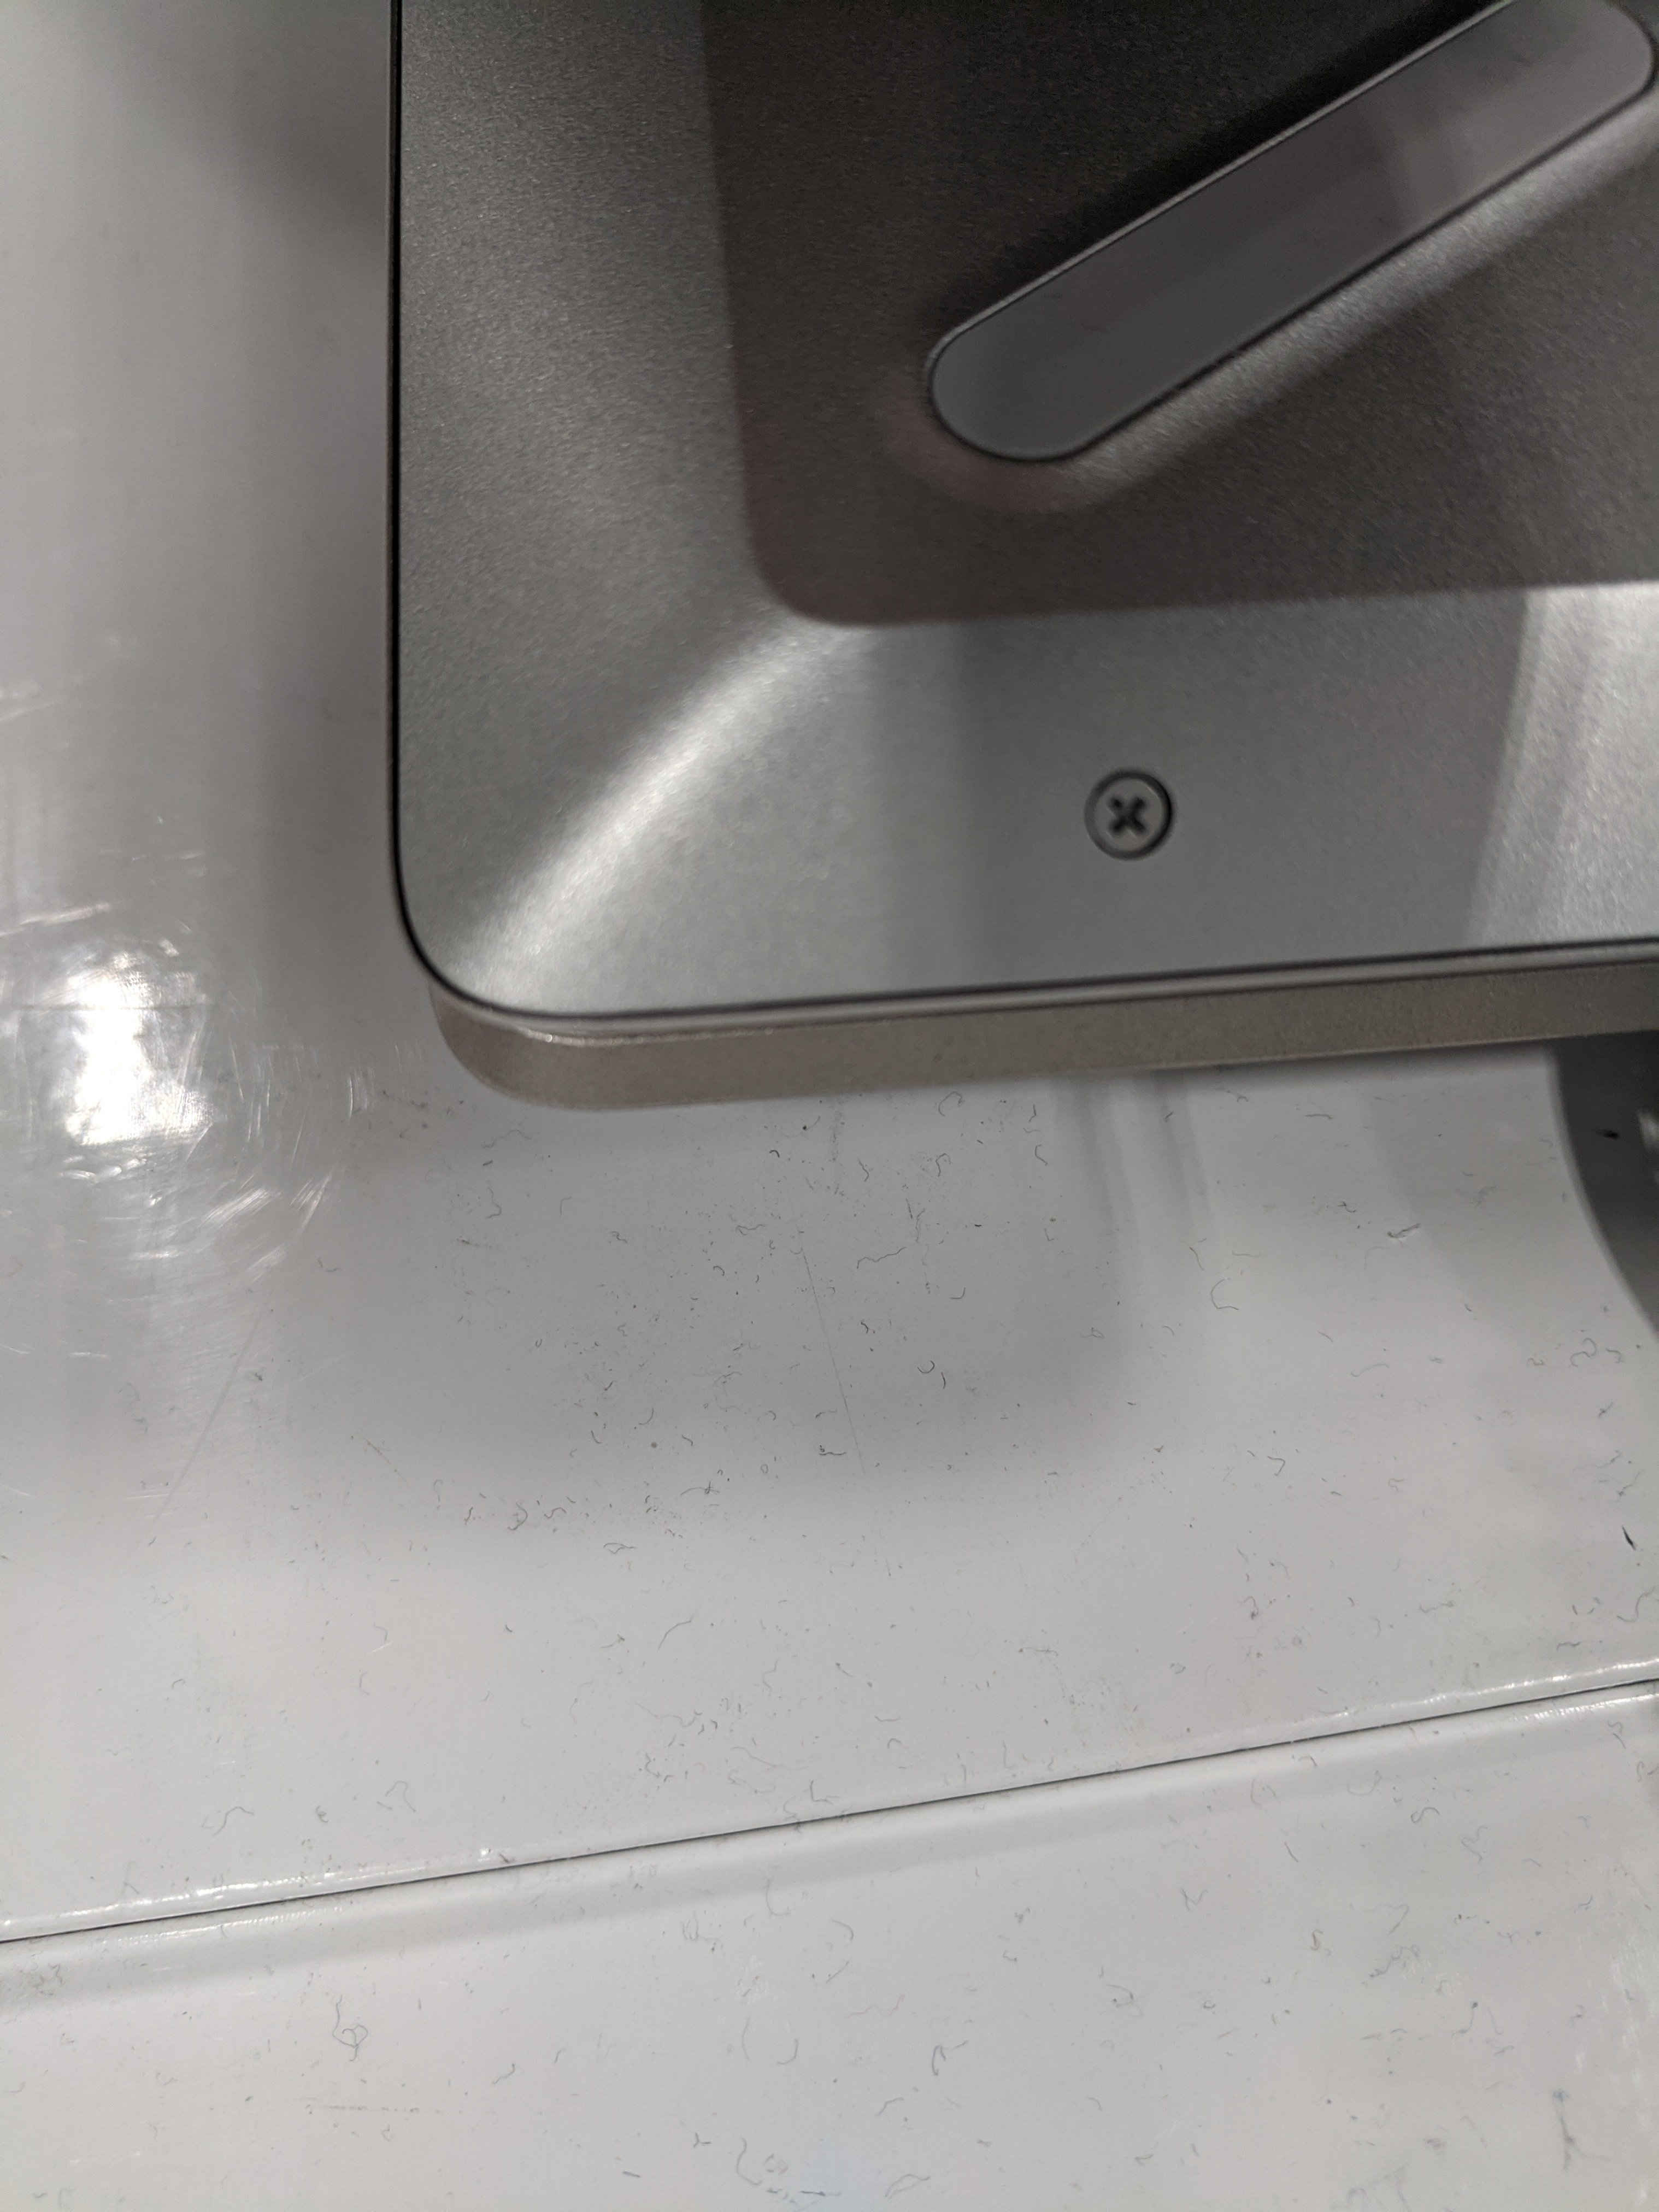cross_recessed_screw: (1065, 758, 1192, 862)
